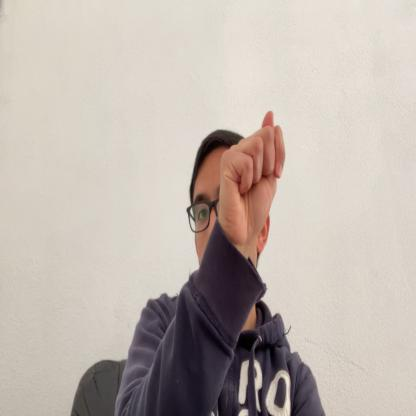T: (218, 110, 284, 251)
